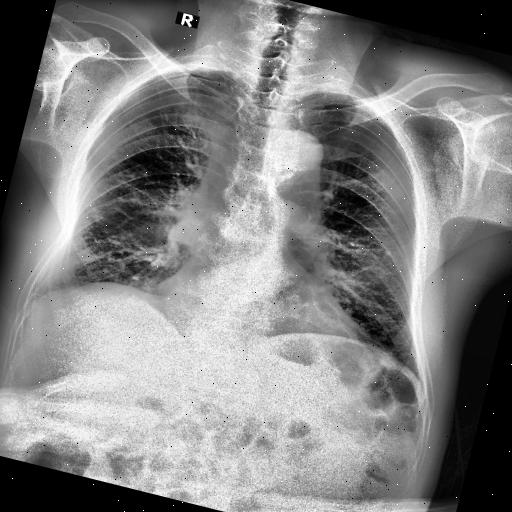0- Aortic enlargement: (243, 122, 345, 262), (256, 122, 330, 208), (260, 124, 330, 184)
3- Cardiomegaly: (156, 254, 374, 362)
